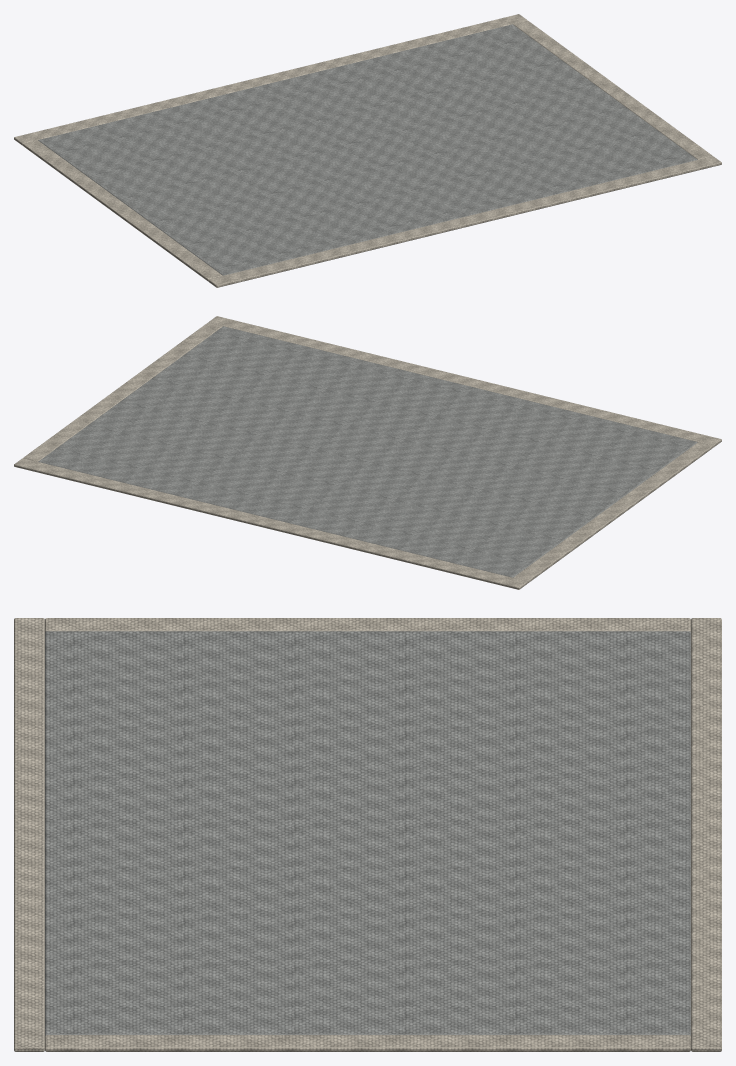
The model's file is decor-rug-bedroom.glb.
3 renders of one model, top to bottom at view 1: azimuth 30°, elevation 25°; view 2: azimuth 150°, elevation 25°; view 3: azimuth 270°, elevation 25°, orthographic. The views are drawn at different scales.
Bounding box in the file's own units: 2.3 × 0.0121 × 1.6.
2 materials, 2 textured.
